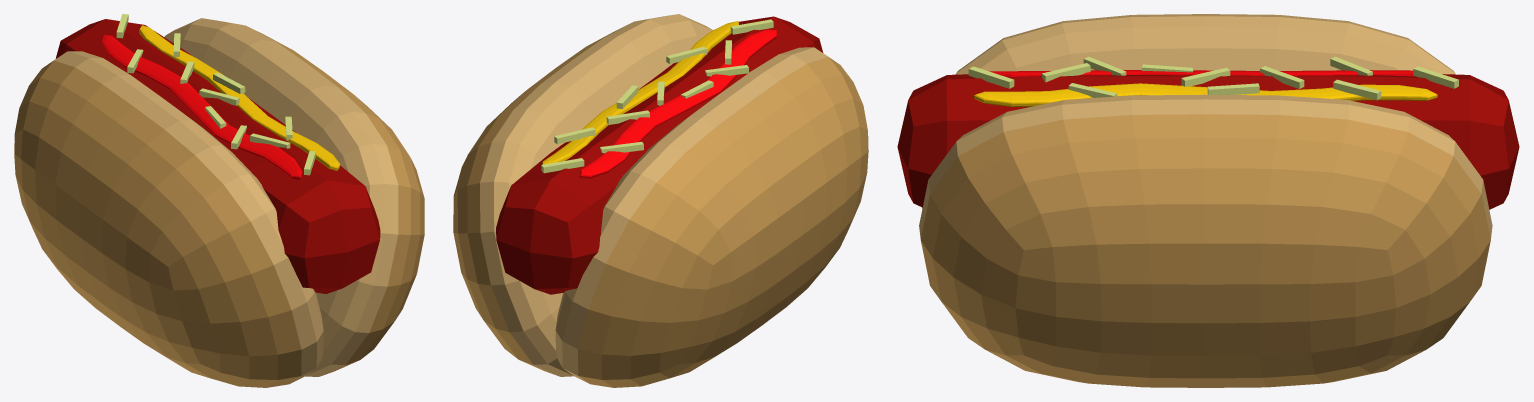
The model's file is dogao.fbx.
3 renders of one model, left to right at view 1: azimuth 30°, elevation 25°; view 2: azimuth 150°, elevation 25°; view 3: azimuth 270°, elevation 25°, orthographic. The views are drawn at different scales.
Parts seen in each view (by area): view 1: Cube.001, Cube, Cube.002, Cube.005, Cube.004, Cube.006; view 2: Cube.001, Cube, Cube.002, Cube.005, Cube.006, Cube.004; view 3: Cube, Cube.001, Cube.002, Cube.006, Cube.004, Cube.005.
Boxes of the visible parts, left/top/right/bottom form: Cube.001: left=14, top=51, right=323, bottom=387; Cube: left=164, top=18, right=424, bottom=376; Cube.002: left=55, top=19, right=380, bottom=293; Cube.005: left=101, top=35, right=302, bottom=179; Cube.004: left=139, top=25, right=340, bottom=170; Cube.006: left=116, top=14, right=315, bottom=175; Cube.001: left=555, top=47, right=868, bottom=387; Cube: left=453, top=14, right=712, bottom=376; Cube.002: left=496, top=16, right=823, bottom=294; Cube.005: left=579, top=29, right=776, bottom=178; Cube.006: left=541, top=19, right=773, bottom=173; Cube.004: left=542, top=21, right=738, bottom=164; Cube: left=919, top=94, right=1492, bottom=387; Cube.001: left=922, top=14, right=1455, bottom=208; Cube.002: left=897, top=74, right=1519, bottom=209; Cube.006: left=968, top=56, right=1458, bottom=100; Cube.004: left=974, top=83, right=1437, bottom=106; Cube.005: left=989, top=70, right=1414, bottom=76.
Size of the model in its own units: 104 by 90.7 by 168.
